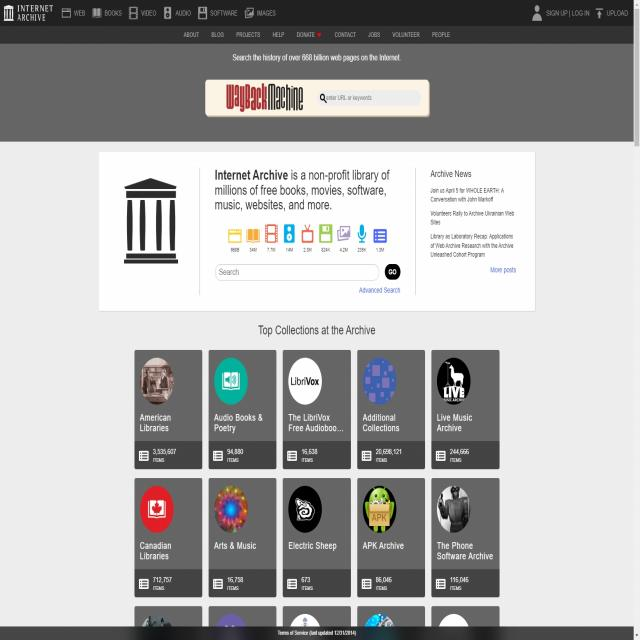menu-panel: (180, 26, 455, 42)
search: (212, 258, 401, 284), (316, 85, 422, 107)
